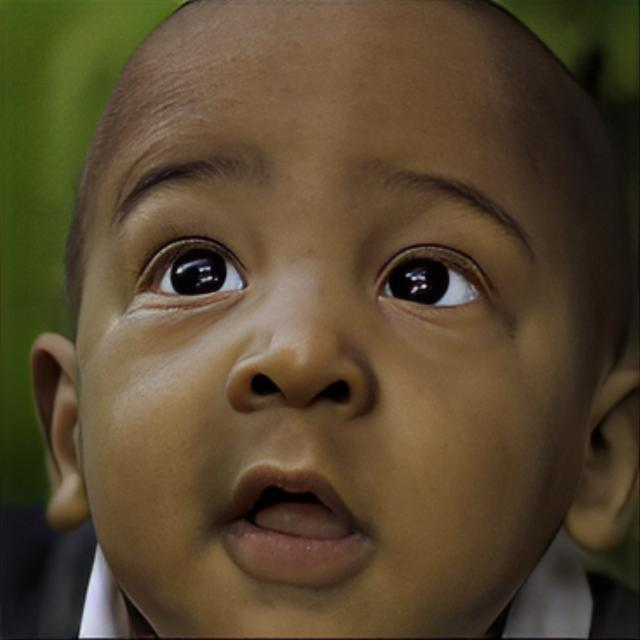surprise: (78, 0, 593, 640)
